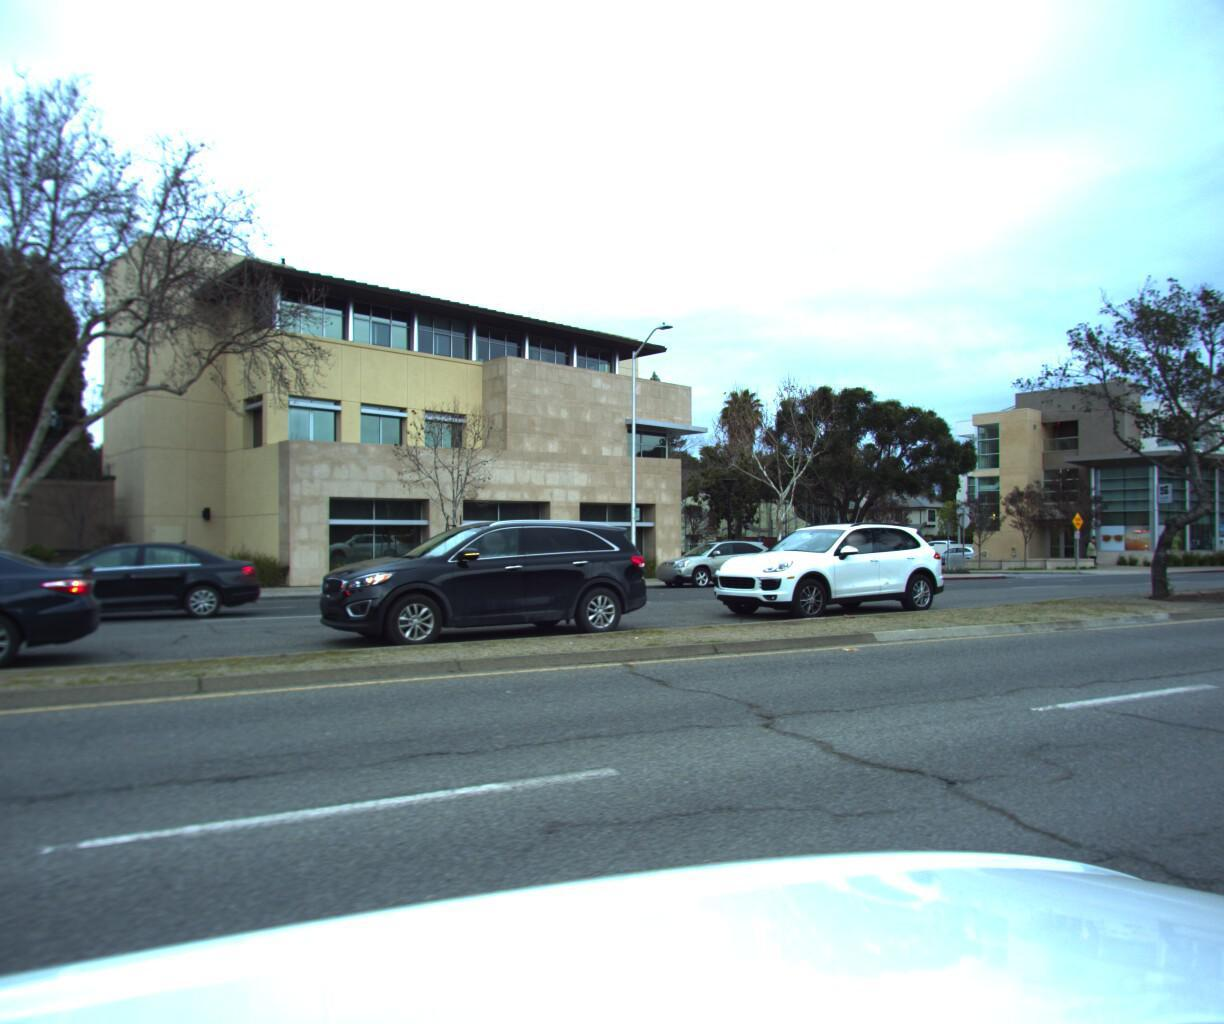car: (303, 510, 655, 654), (693, 515, 952, 622), (10, 539, 256, 633), (0, 531, 107, 724), (646, 536, 778, 588)
